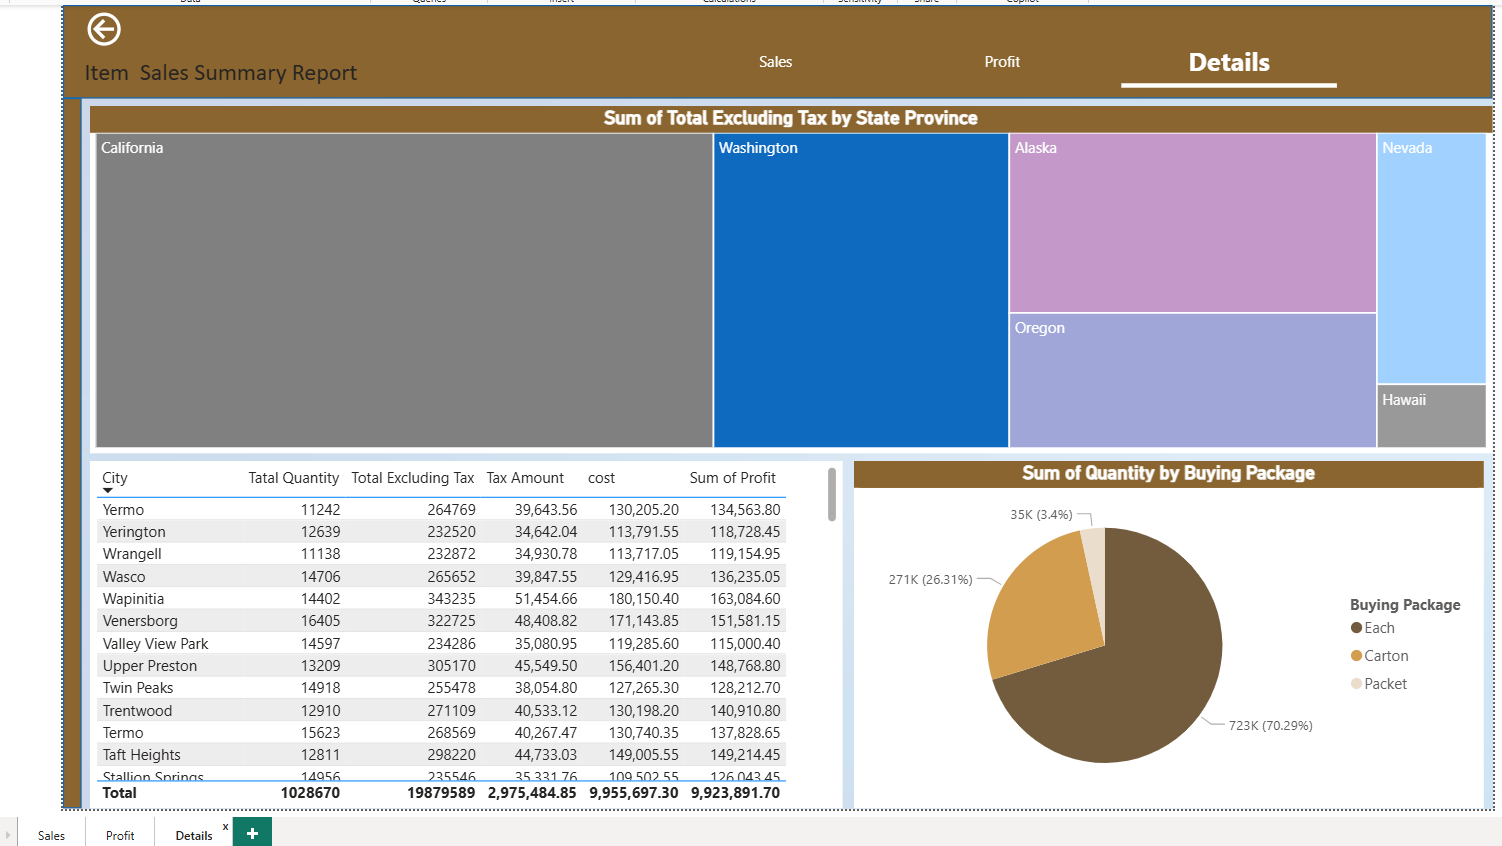

Layout of this report page (visuals, bound fields, positions):
{"tool":"powerbi","page":{"name":"Details ","canvas":[1280,720],"ordinal":2},"visuals":[{"type":"shape","box":[0,0,1280,83.6],"z":0},{"type":"shape","box":[0,83.6,16.5,636.1],"z":1000},{"type":"textbox","box":[0,41.8,287.9,41.8],"z":2000},{"type":"pageNavigator","box":[541.9,24.8,600.4,49.5],"z":3000},{"type":"actionButton","box":[16.8,2,100.1,39.6],"z":4000},{"type":"treemap","fields":{"Group":["Dimcity.State Province"],"Values":["Sum(FactSale.Total Excluding Tax)"]},"box":[24.3,90.5,1255.7,311.2],"z":5000},{"type":"tableEx","fields":{"Values":["Dimcity.City","Sum(FactSale.Quantity)","Sum(FactSale.Total Excluding Tax)","Sum(FactSale.Tax Amount)","Sum(FactSale.cost)","Sum(FactSale.Profit)"]},"box":[24.3,408.5,674,311.2],"z":6000},{"type":"pieChart","fields":{"Category":["DimStockltem.Buying Package"],"Y":["Sum(FactSale.Quantity)"]},"box":[708.1,408.5,564.1,311.2],"z":7000}]}

Visuals, with their boxes in screenshot pixels (x1, y1, x2, y2):
shape: pyautogui.locateOnScreen(59, 0, 1487, 93)
shape: pyautogui.locateOnScreen(59, 93, 77, 803)
textbox: pyautogui.locateOnScreen(59, 47, 380, 93)
pageNavigator: pyautogui.locateOnScreen(664, 28, 1334, 83)
actionButton: pyautogui.locateOnScreen(77, 2, 189, 46)
treemap - Dimcity.State Province x Sum(FactSale.Total Excluding Tax): pyautogui.locateOnScreen(86, 101, 1487, 448)
tableEx - Dimcity.City x Sum(FactSale.Quantity): pyautogui.locateOnScreen(86, 456, 838, 803)
pieChart - DimStockltem.Buying Package x Sum(FactSale.Quantity): pyautogui.locateOnScreen(849, 456, 1479, 803)
